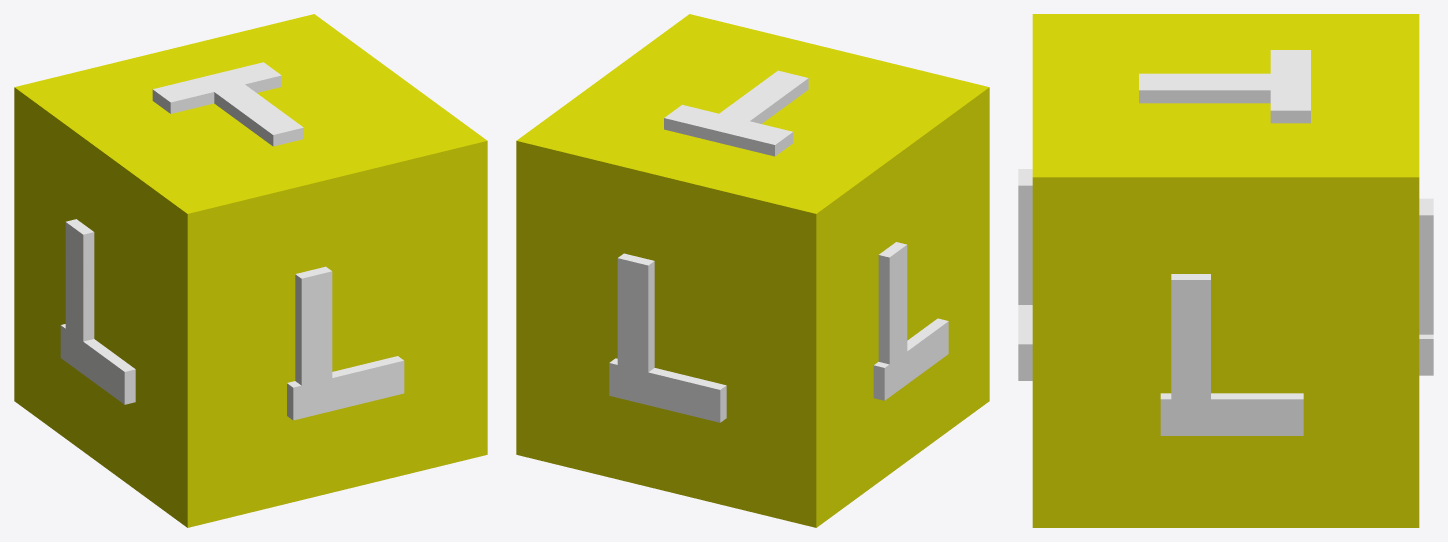
Rendered from TARGET_2.glb.
The picture shows the model from 3 angles, left to right: view 1: azimuth 30°, elevation 25°; view 2: azimuth 150°, elevation 25°; view 3: azimuth 270°, elevation 25°; orthographic projection. The views are drawn at different scales.
Visible parts, largest first — view 1: TARGET_HIGH_2; view 2: TARGET_HIGH_2; view 3: TARGET_HIGH_2.
Boxes of the visible parts, x1=… form: TARGET_HIGH_2: x1=14, y1=14, x2=487, y2=527; TARGET_HIGH_2: x1=516, y1=14, x2=989, y2=527; TARGET_HIGH_2: x1=1018, y1=14, x2=1433, y2=527.
Bounding box in the file's own units: 2.15 × 2.15 × 2.15.
